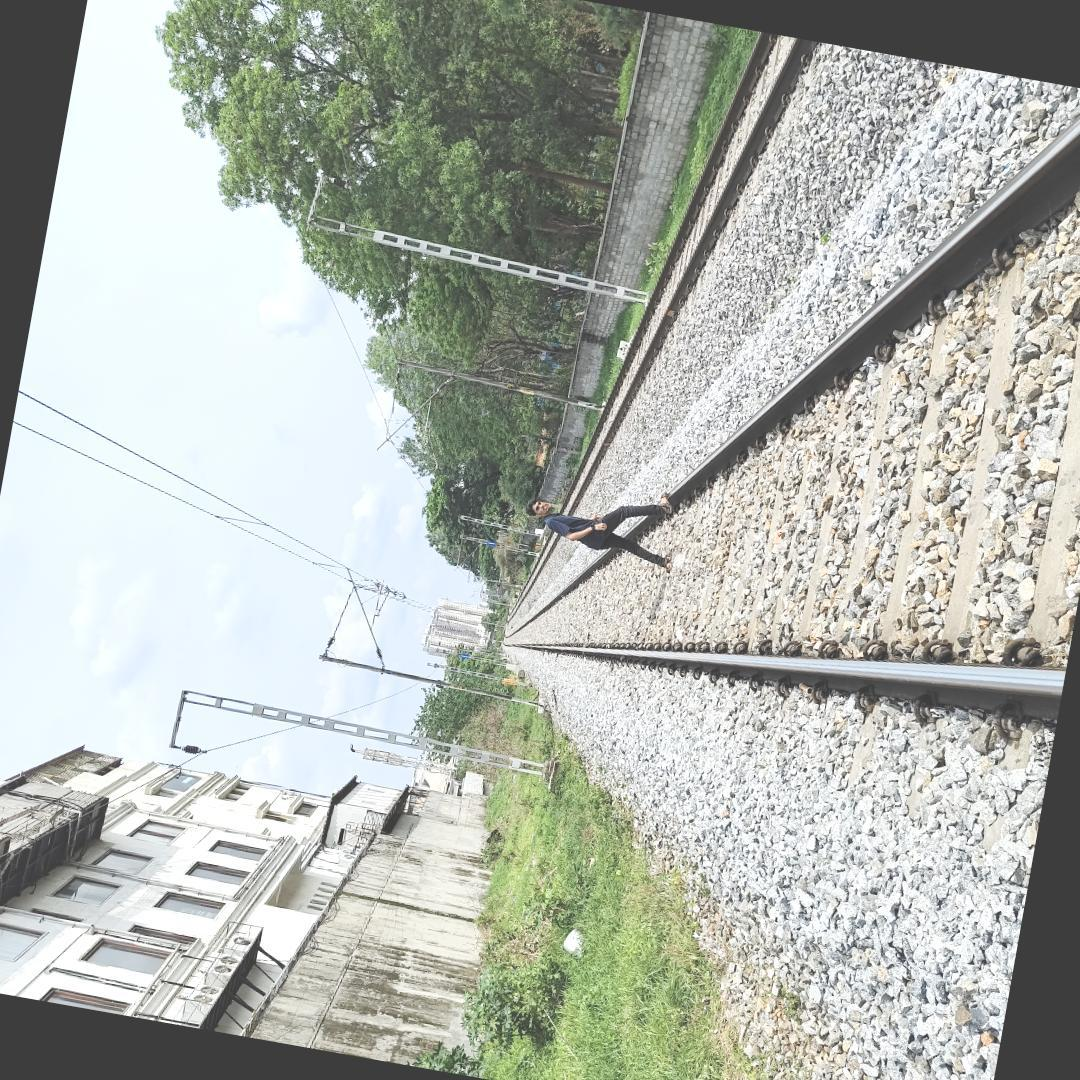standing: (509, 469, 700, 588)
track: (501, 106, 1080, 728)
